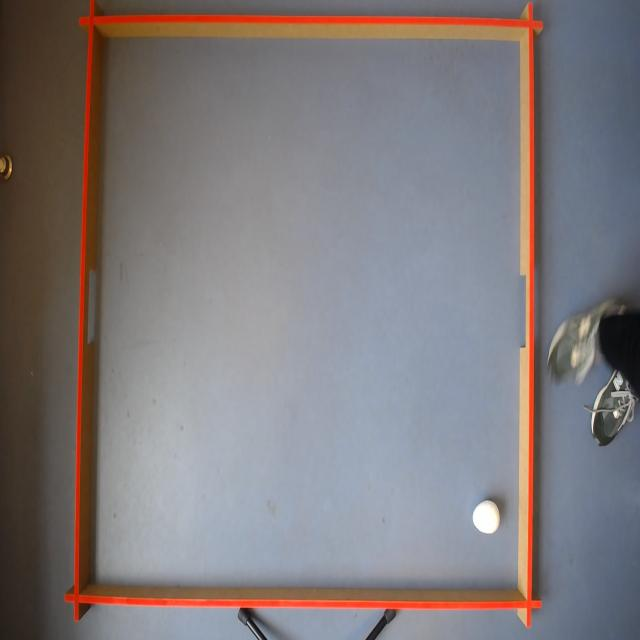egg: (471, 499, 501, 536)
